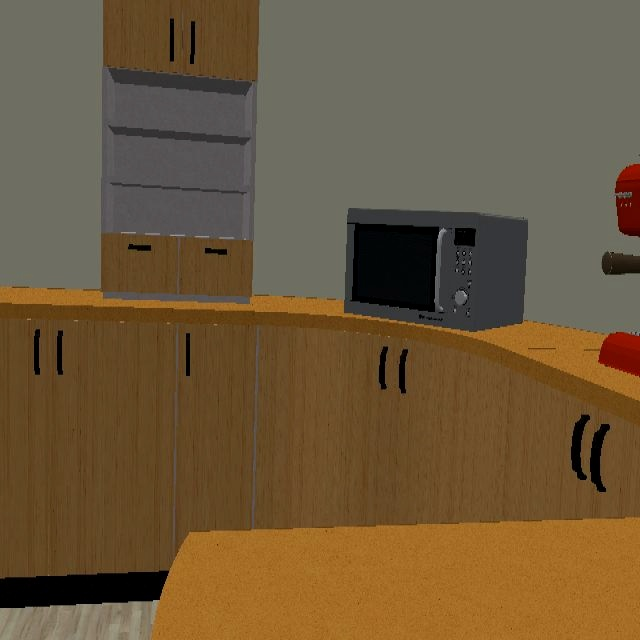cabinet: (103, 0, 260, 83), (101, 232, 252, 305)
countertop: (0, 287, 640, 429), (149, 517, 640, 640)
microwave: (346, 208, 529, 328)
shelf: (101, 67, 258, 275)
